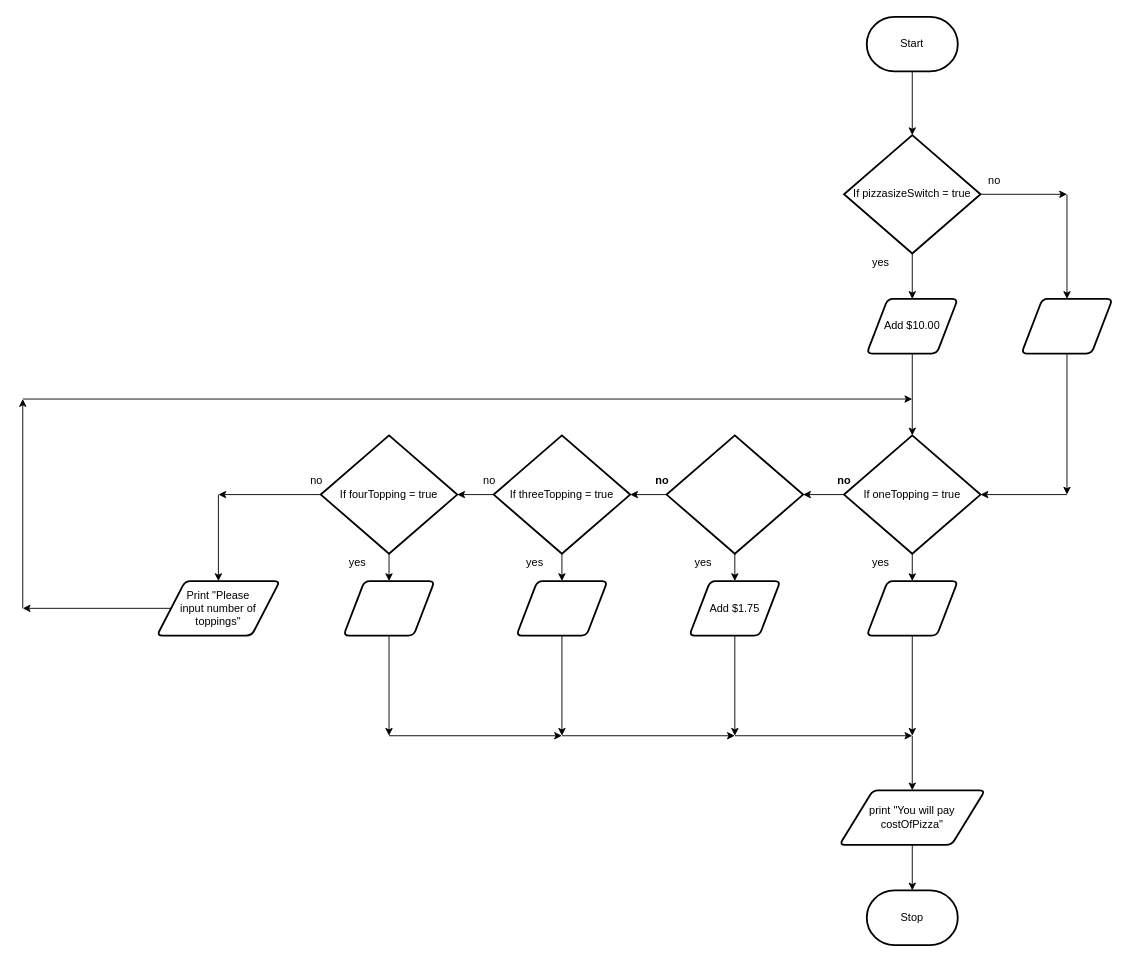
Some shapes in this 1128 by 961 pixel diagram are drawn without their labels. Each missing label, with the centre of its shape:
Add $1.00: (x=911, y=608)
Add $2.50: (x=561, y=608)
Add $3.35: (x=388, y=608)
Add $6.00: (x=1066, y=326)
If twoTopping = true: (x=734, y=494)
